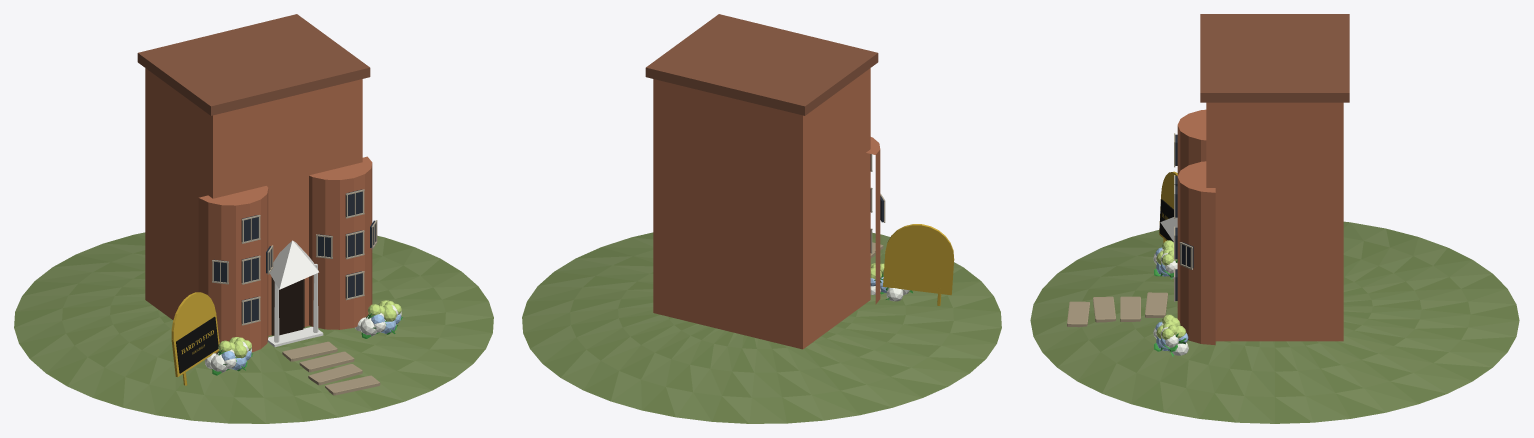
The model's file is bookshop-art-v3.glb.
3 views of the same model, side by side, from view 1: azimuth 30°, elevation 25°; view 2: azimuth 150°, elevation 25°; view 3: azimuth 270°, elevation 25° (orthographic).
Visible parts, largest first — view 1: Curved garden ground, n9.001, n11.001, n25.001, n13.001, n50, n45.001, n53.001, n39.001, Entrance path 0, Entrance path 1, Entrance path 3 (+6 smaller); view 2: n9.001, Curved garden ground, n11.001, n48.001, n53.001, n13.001; view 3: Curved garden ground, n9.001, n11.001, n25.001, n13.001, Entrance path 2, Entrance path 0, Entrance path 3, Entrance path 1, n29.003.
Boxes of the visible parts, x1,y1,x2,y2 form: Curved garden ground: (14,232,493,423); n9.001: (145,68,362,335); n11.001: (137,14,370,115); n25.001: (309,156,372,329); n13.001: (198,186,268,353); n50: (176,316,218,373); n45.001: (270,240,318,289); n53.001: (171,292,215,339); n39.001: (279,279,303,335); Entrance path 0: (282,341,337,361); Entrance path 1: (299,351,354,372); Entrance path 3: (325,375,380,395); n9.001: (653,68,870,349); Curved garden ground: (522,232,1001,423); n11.001: (645,14,878,115); n48.001: (883,251,954,295); n53.001: (885,224,953,259); n13.001: (866,137,880,304); Curved garden ground: (1030,221,1519,423); n9.001: (1206,102,1343,341); n11.001: (1200,14,1349,102); n25.001: (1177,161,1215,345); n13.001: (1177,109,1206,175); Entrance path 2: (1093,296,1115,322); Entrance path 0: (1145,292,1167,317); Entrance path 3: (1067,301,1089,327); Entrance path 1: (1120,296,1140,321); n29.003: (1156,314,1186,339).
Size of the model in its own units: 12.8 by 7.71 by 12.8.
25 materials, 1 textured.
